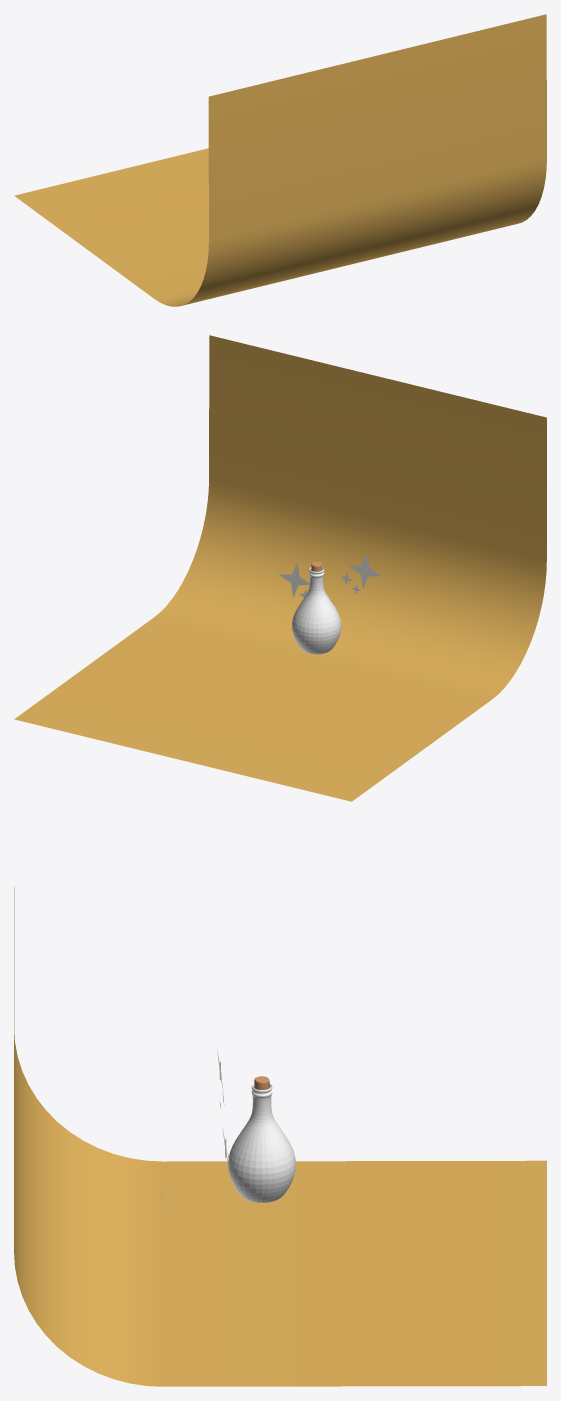
Rendered from mushroom_vase.glb.
3 views of the same model, one above another, from view 1: azimuth 30°, elevation 25°; view 2: azimuth 150°, elevation 25°; view 3: azimuth 270°, elevation 25° (orthographic). The views are drawn at different scales.
Visible parts, largest first — view 1: Plane; view 2: Plane, bottle; view 3: Plane, bottle.
Boxes of the visible parts, box(x1,y1,x2,y2) form: Plane: box(14, 14, 546, 306); Plane: box(14, 335, 546, 801); bottle: box(291, 567, 341, 654); Plane: box(14, 886, 546, 1386); bottle: box(228, 1084, 295, 1203).
Size of the model in its own units: 60.61 by 41.48 by 60.52.
